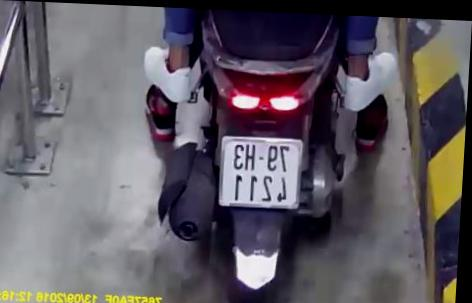License_Plate: (211, 131, 313, 215)
